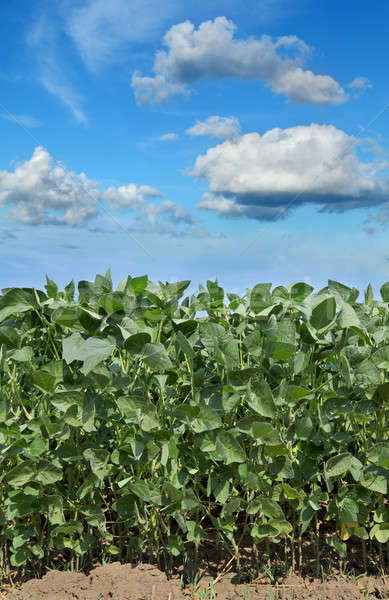soyabean: (2, 282, 389, 537)
